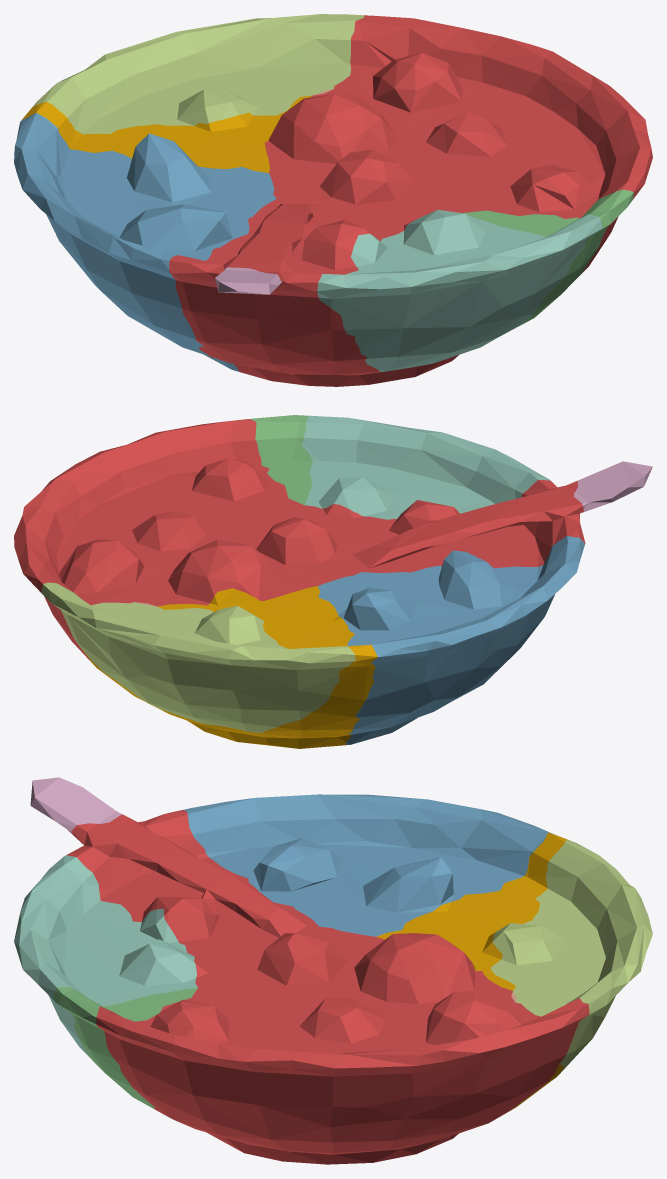
Rendered from fractured_37_8pcs.glb.
3 views of the same model, one above another, from view 1: azimuth 30°, elevation 25°; view 2: azimuth 150°, elevation 25°; view 3: azimuth 270°, elevation 25° (orthographic). The views are drawn at different scales.
Parts seen in each view (by area): view 1: piece_1.obj, piece_2.obj, piece_4.obj, piece_5.obj, piece_0.obj, piece_3.obj, piece_6.obj; view 2: piece_1.obj, piece_2.obj, piece_5.obj, piece_4.obj, piece_0.obj, piece_3.obj, piece_6.obj; view 3: piece_1.obj, piece_2.obj, piece_5.obj, piece_4.obj, piece_0.obj, piece_3.obj, piece_6.obj.
Boxes of the visible parts, <box> form: piece_1.obj: <box>169,15,652,386</box>; piece_2.obj: <box>14,113,276,371</box>; piece_4.obj: <box>317,209,602,371</box>; piece_5.obj: <box>32,14,364,134</box>; piece_0.obj: <box>22,96,311,172</box>; piece_3.obj: <box>462,189,633,325</box>; piece_6.obj: <box>215,267,281,294</box>; piece_1.obj: <box>14,419,585,720</box>; piece_2.obj: <box>318,536,584,744</box>; piece_5.obj: <box>41,582,355,732</box>; piece_4.obj: <box>302,415,550,519</box>; piece_0.obj: <box>81,586,377,748</box>; piece_3.obj: <box>247,415,312,504</box>; piece_6.obj: <box>573,461,652,511</box>; piece_1.obj: <box>66,810,589,1164</box>; piece_2.obj: <box>183,794,553,936</box>; piece_5.obj: <box>490,840,652,1070</box>; piece_4.obj: <box>14,855,197,1064</box>; piece_0.obj: <box>376,832,568,1109</box>; piece_3.obj: <box>52,987,197,1108</box>; piece_6.obj: <box>30,777,122,834</box>.
Bounding box in the file's own units: 1 × 0.3508 × 0.9972.
